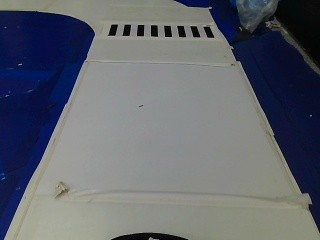crosswalk: (101, 19, 218, 40)
